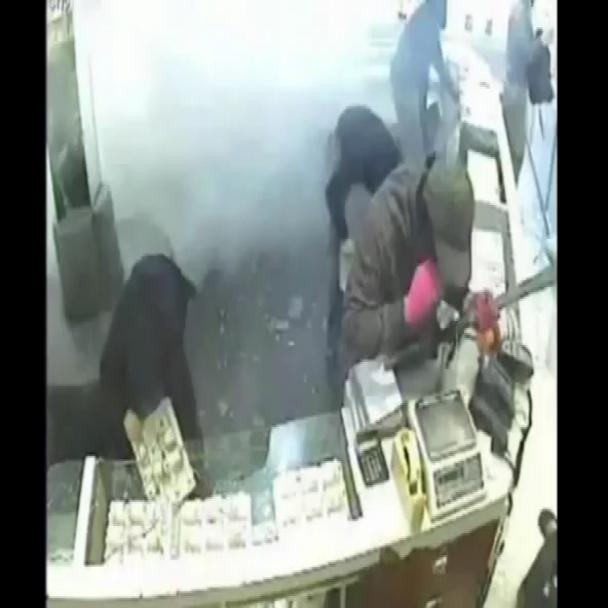smoke: (72, 0, 538, 494)
